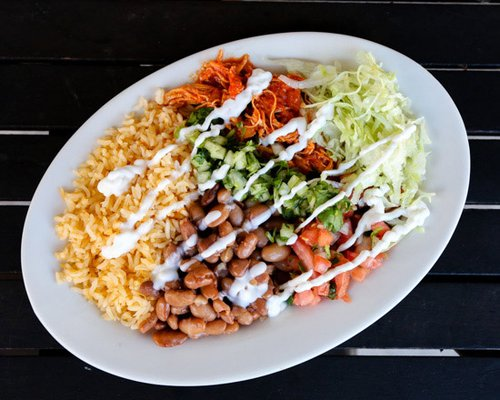curry: (4, 1, 497, 400)
